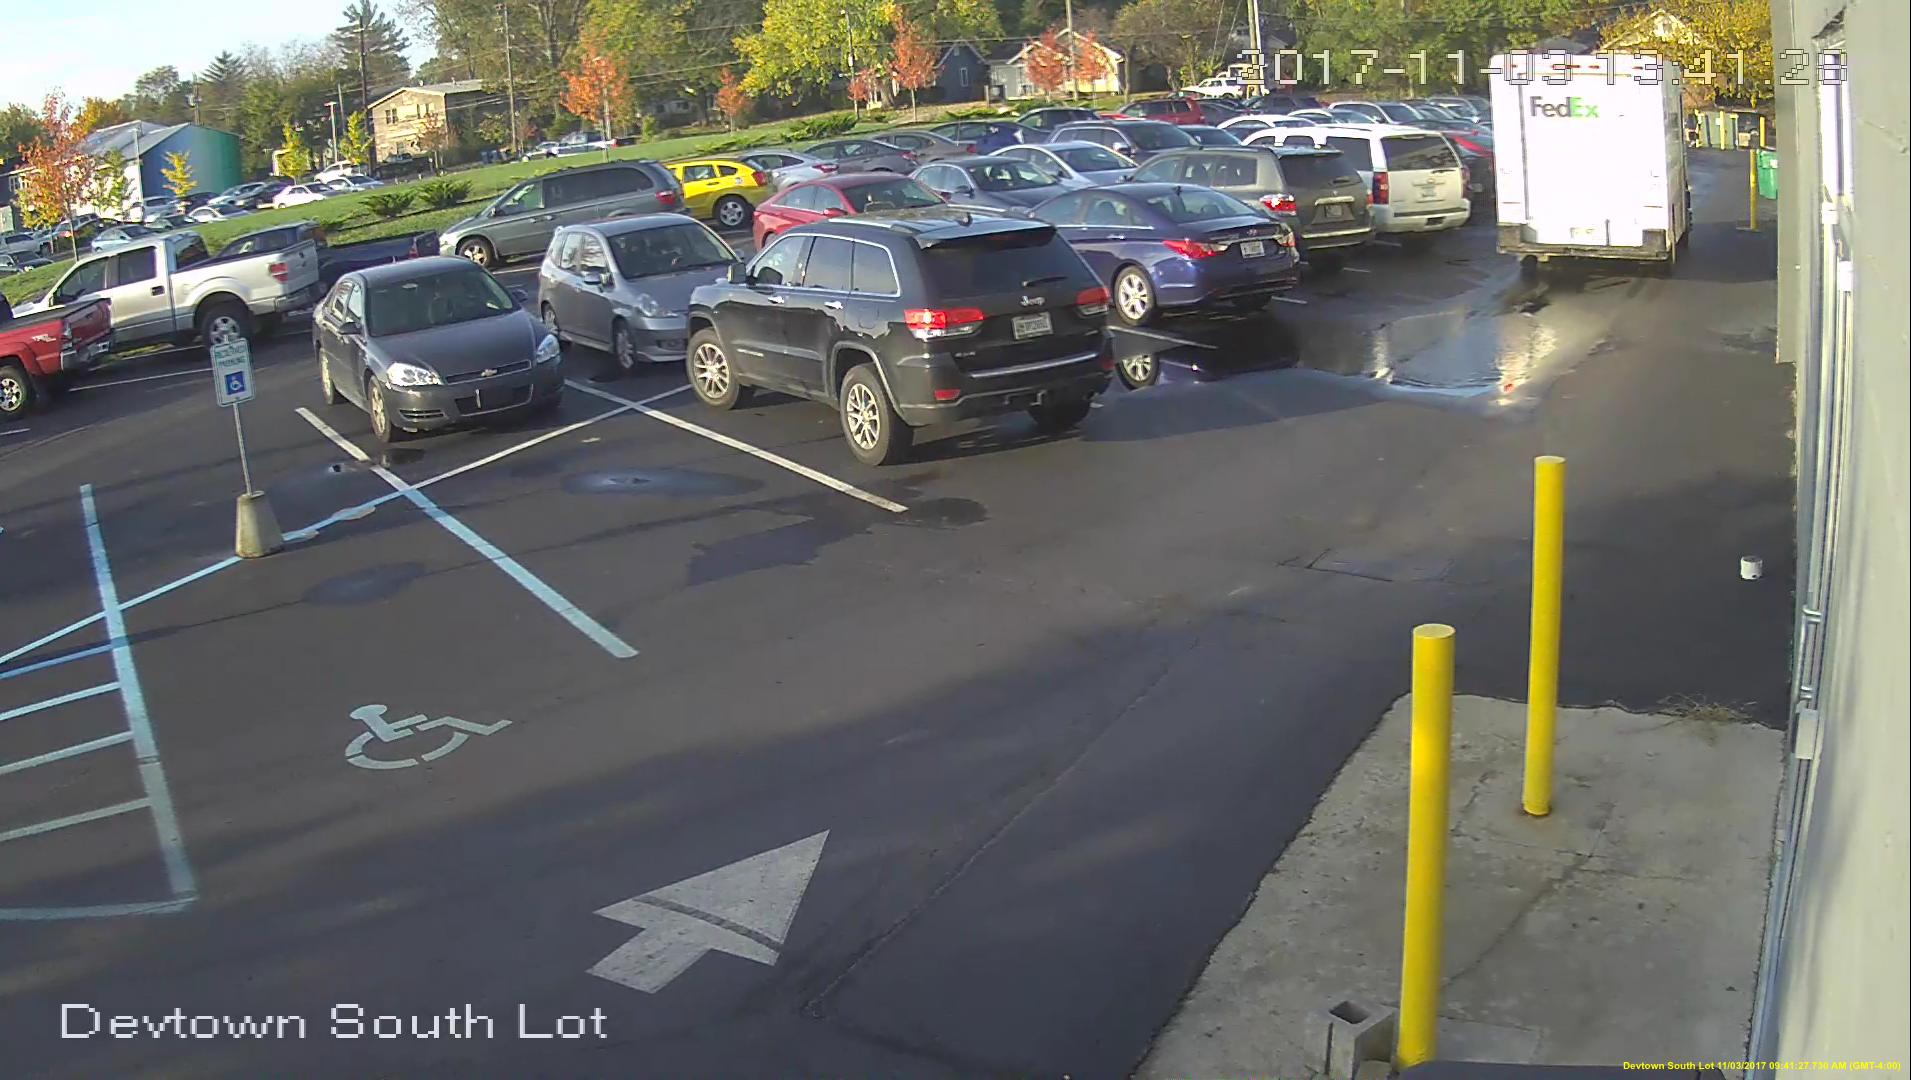fedex_truck: (1484, 47, 1698, 278)
